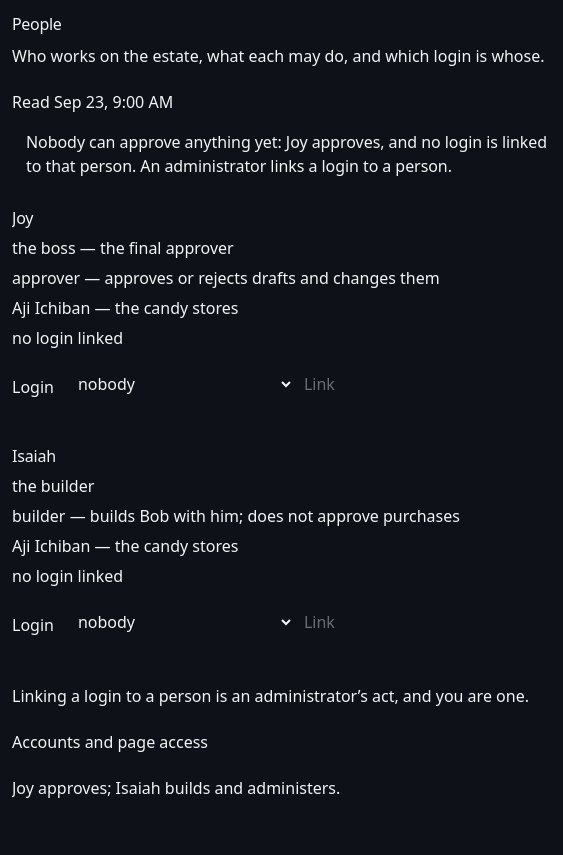
linking a login stays an administrator’s act › renders the server’s refusal verbatim
The width and height of the screenshot is (563, 855).
Select "joy — Joy" in the dropdown named "Login for Joy" at coordinates (179, 384), box [64, 364, 294, 404]
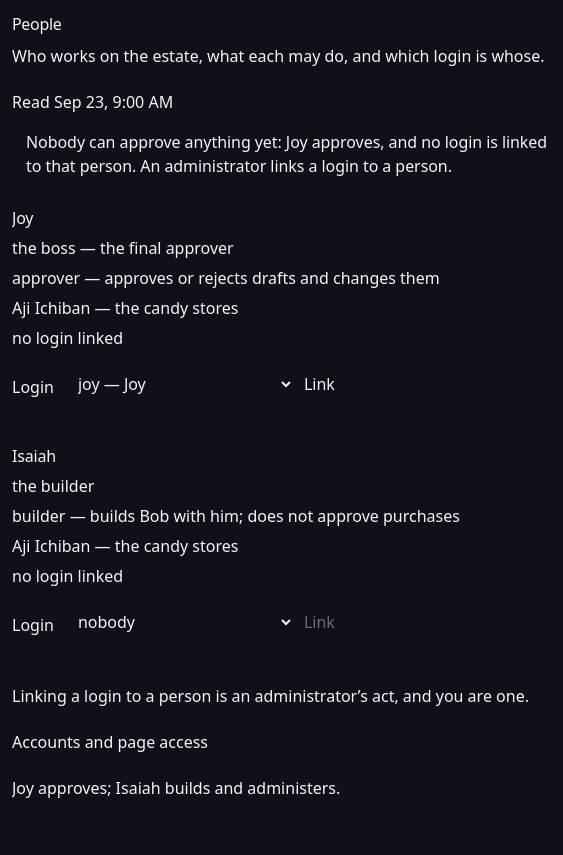
Click the button "Link" below "the boss — the final approver" at coordinates (319, 384), box [304, 369, 335, 399]
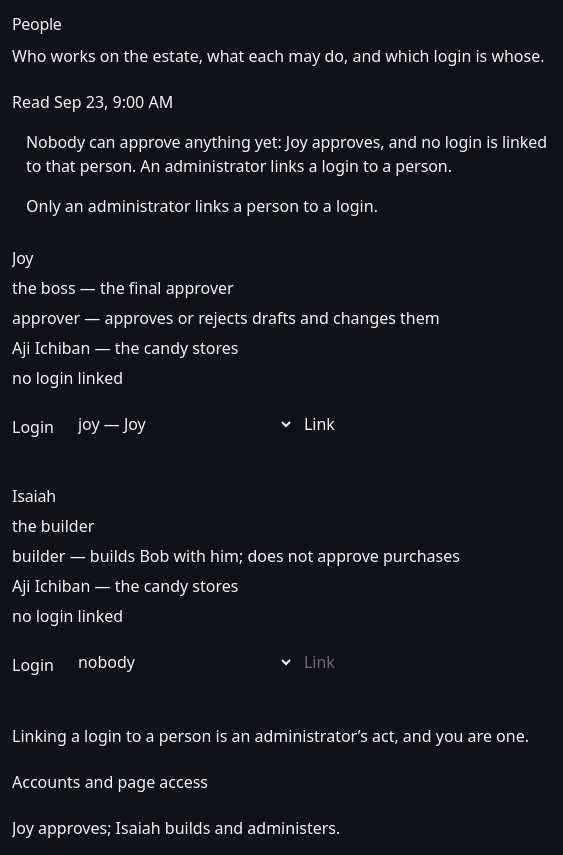
expect the text "Only an administrator links a person to a login." is shown: met, box [26, 195, 378, 217]
